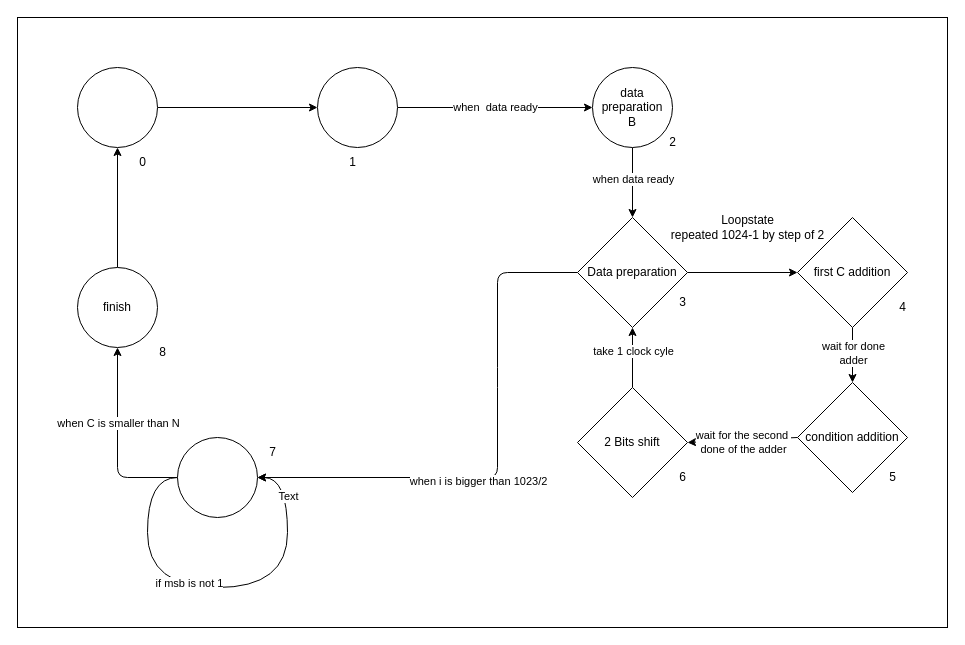
The diagram is 965 pixels wide and 645 high, and some of its shapes have lost their labels. Each missing label, with the centre of its shape:
"conditional subtraction" belongs at point (217, 477).
"data preparation M" belongs at point (357, 107).
"wait" belongs at point (117, 107).
